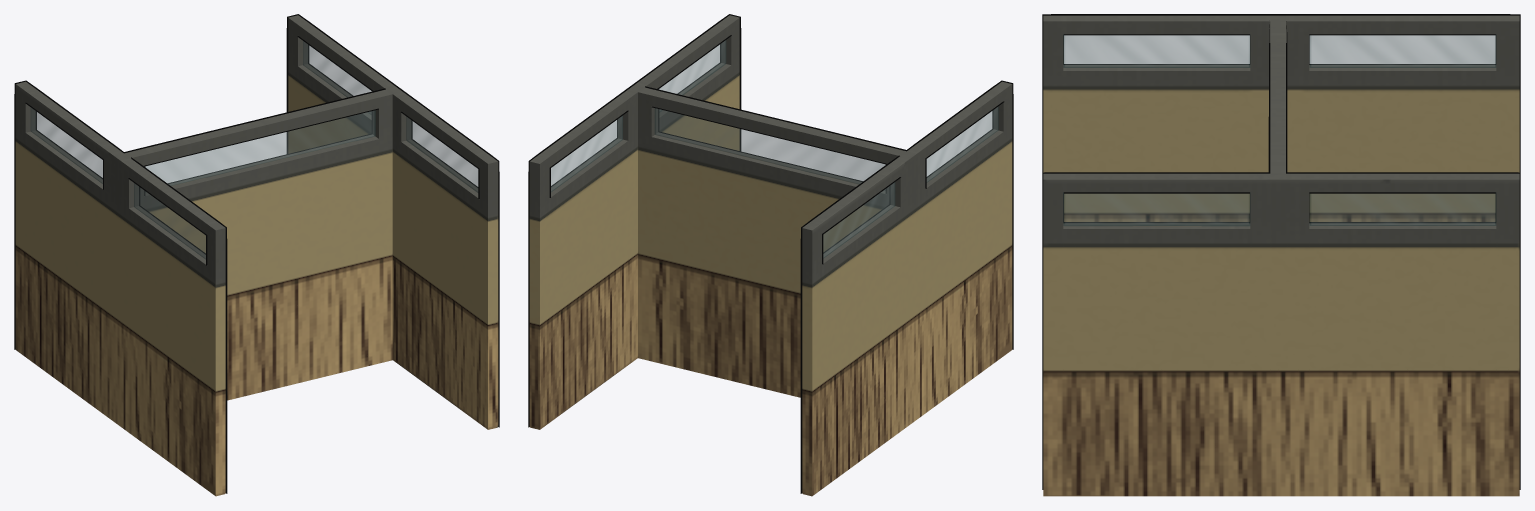
File: Baia.glb
3 renders of one model, left to right at view 1: azimuth 30°, elevation 25°; view 2: azimuth 150°, elevation 25°; view 3: azimuth 270°, elevation 25°, orthographic. The views are drawn at different scales.
Parts seen in each view (by area): view 1: Baia Contorno, Vidros baia; view 2: Baia Contorno, Vidros baia; view 3: Baia Contorno, Vidros baia.
Part boxes in pixels (x1=…): Baia Contorno: x1=14, y1=14, x2=499, y2=496; Vidros baia: x1=30, y1=41, x2=478, y2=259; Baia Contorno: x1=528, y1=14, x2=1013, y2=496; Vidros baia: x1=551, y1=40, x2=998, y2=258; Baia Contorno: x1=1042, y1=14, x2=1520, y2=496; Vidros baia: x1=1063, y1=34, x2=1496, y2=226.
Size of the model in its own units: 2.02 by 1.81 by 2.47.
3 materials, 2 textured.
